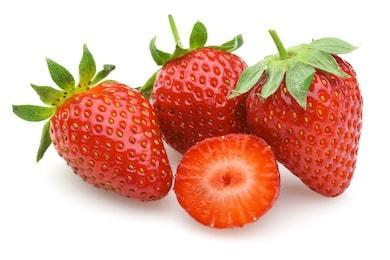Fresa: (245, 43, 367, 201), (43, 77, 174, 207), (147, 43, 272, 157)
